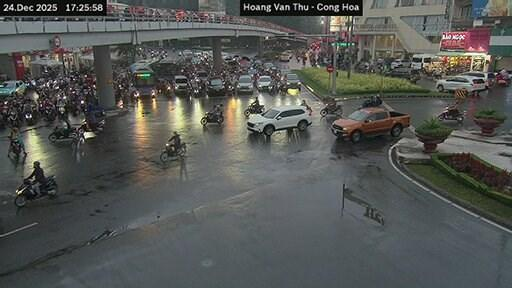motorbike: (13, 175, 57, 206), (48, 126, 83, 140), (160, 143, 185, 161), (77, 118, 105, 133), (437, 107, 464, 120), (199, 112, 223, 125), (320, 103, 342, 116), (358, 97, 381, 108), (243, 103, 262, 116), (7, 139, 21, 156), (7, 108, 19, 126), (496, 72, 508, 85), (44, 107, 54, 121), (268, 82, 278, 94), (25, 111, 34, 124), (57, 104, 66, 117)
